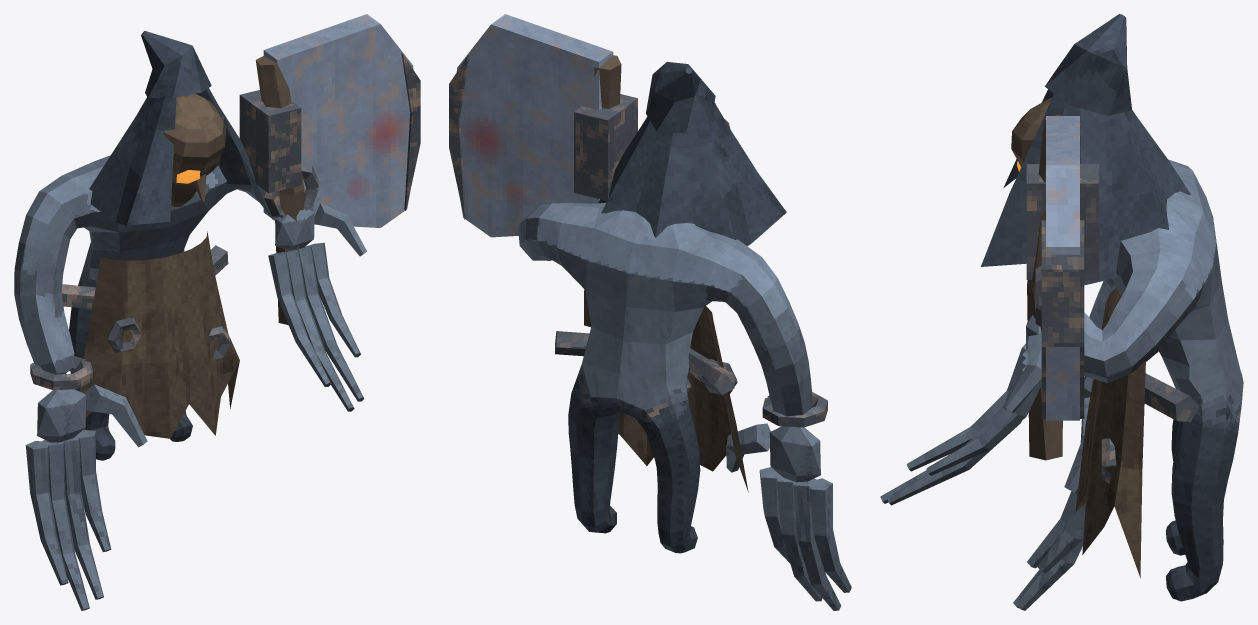
The model's file is rotten_executioner.glb.
3 views of the same model, side by side, from view 1: azimuth 30°, elevation 25°; view 2: azimuth 150°, elevation 25°; view 3: azimuth 270°, elevation 25° (orthographic). The views are drawn at different scales.
Parts seen in each view (by area): view 1: rotten_executioner; view 2: rotten_executioner; view 3: rotten_executioner.
Boxes of the visible parts, x1,y1,x2,y2 form: rotten_executioner: (14, 14, 420, 610); rotten_executioner: (449, 14, 851, 610); rotten_executioner: (880, 14, 1243, 610).
Bounding box in the file's own units: 2.5 × 3.4 × 1.71.
Materials: 2 (1 with a texture image).
